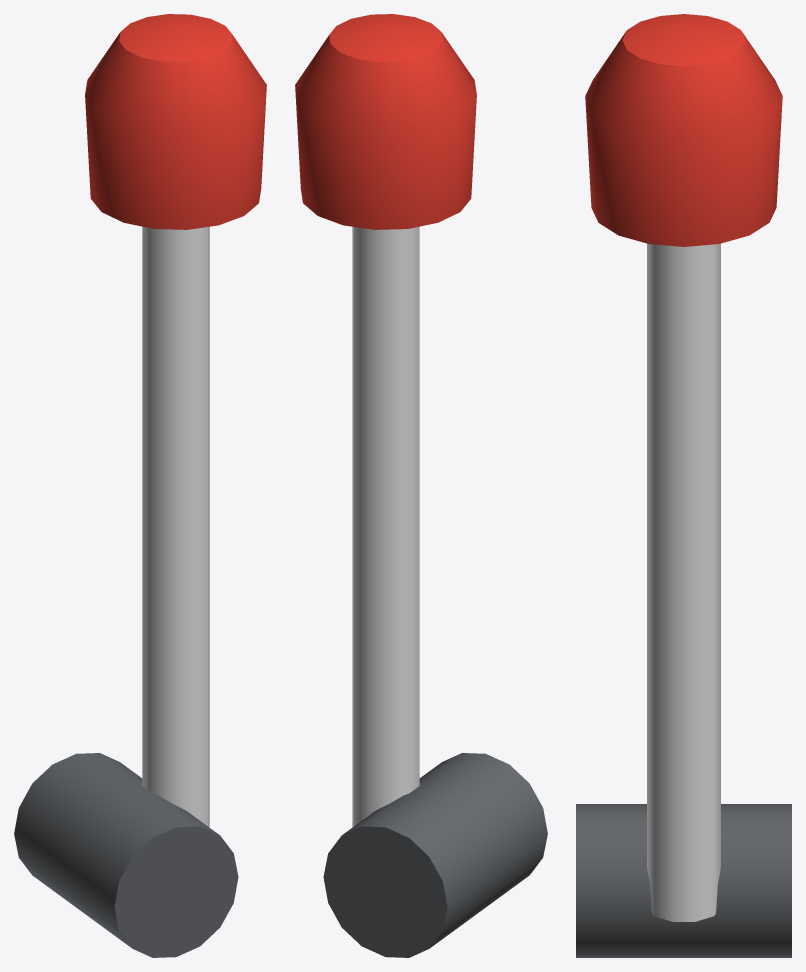
File: SM_Sub_PowerLever.fbx
3 views of the same model, side by side, from view 1: azimuth 30°, elevation 25°; view 2: azimuth 150°, elevation 25°; view 3: azimuth 270°, elevation 25° (orthographic). The views are drawn at different scales.
Parts seen in each view (by area): view 1: SM_Sub_PowerLever; view 2: SM_Sub_PowerLever; view 3: SM_Sub_PowerLever.
Part boxes in pixels (bbox=[...]): SM_Sub_PowerLever: bbox=[14, 14, 266, 957]; SM_Sub_PowerLever: bbox=[295, 14, 547, 957]; SM_Sub_PowerLever: bbox=[576, 14, 791, 957].
Bounding box in the file's own units: 0.077 × 0.34 × 0.07.
